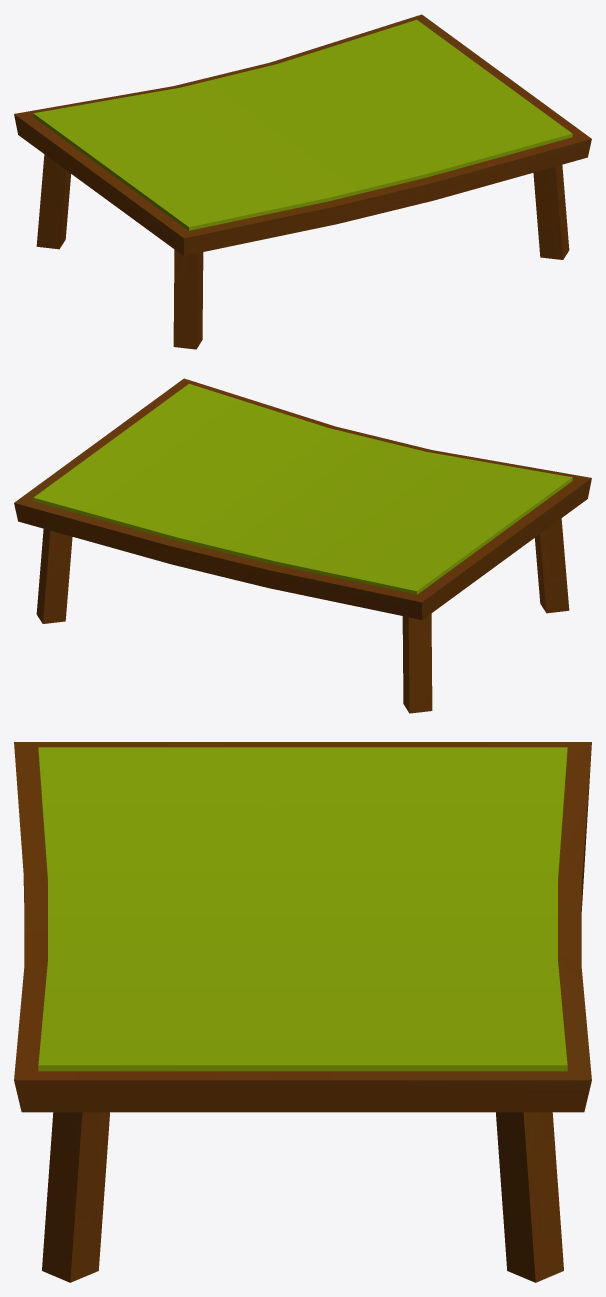
The model's file is table.fbx.
3 views of the same model, one above another, from view 1: azimuth 30°, elevation 25°; view 2: azimuth 150°, elevation 25°; view 3: azimuth 270°, elevation 25° (orthographic). The views are drawn at different scales.
Parts seen in each view (by area): view 1: table; view 2: table; view 3: table.
Part boxes in pixels (box(x1,y1,x2,y2)): table: box(14, 14, 591, 349); table: box(14, 378, 591, 713); table: box(14, 742, 591, 1282).
Bounding box in the file's own units: 322 × 94.41 × 233.
1 material, 1 textured.
